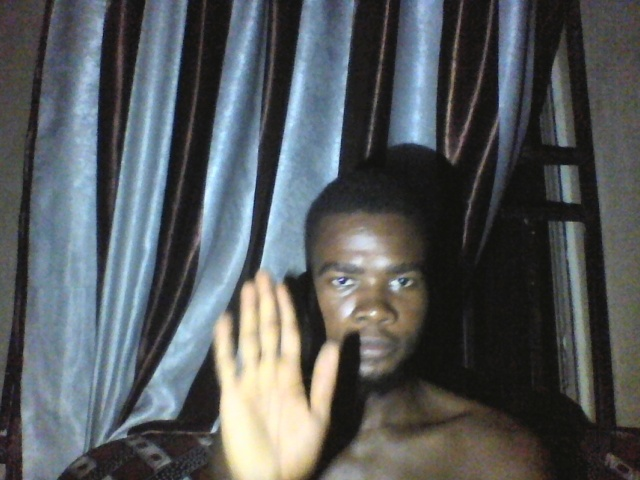hello: (206, 266, 344, 480)
